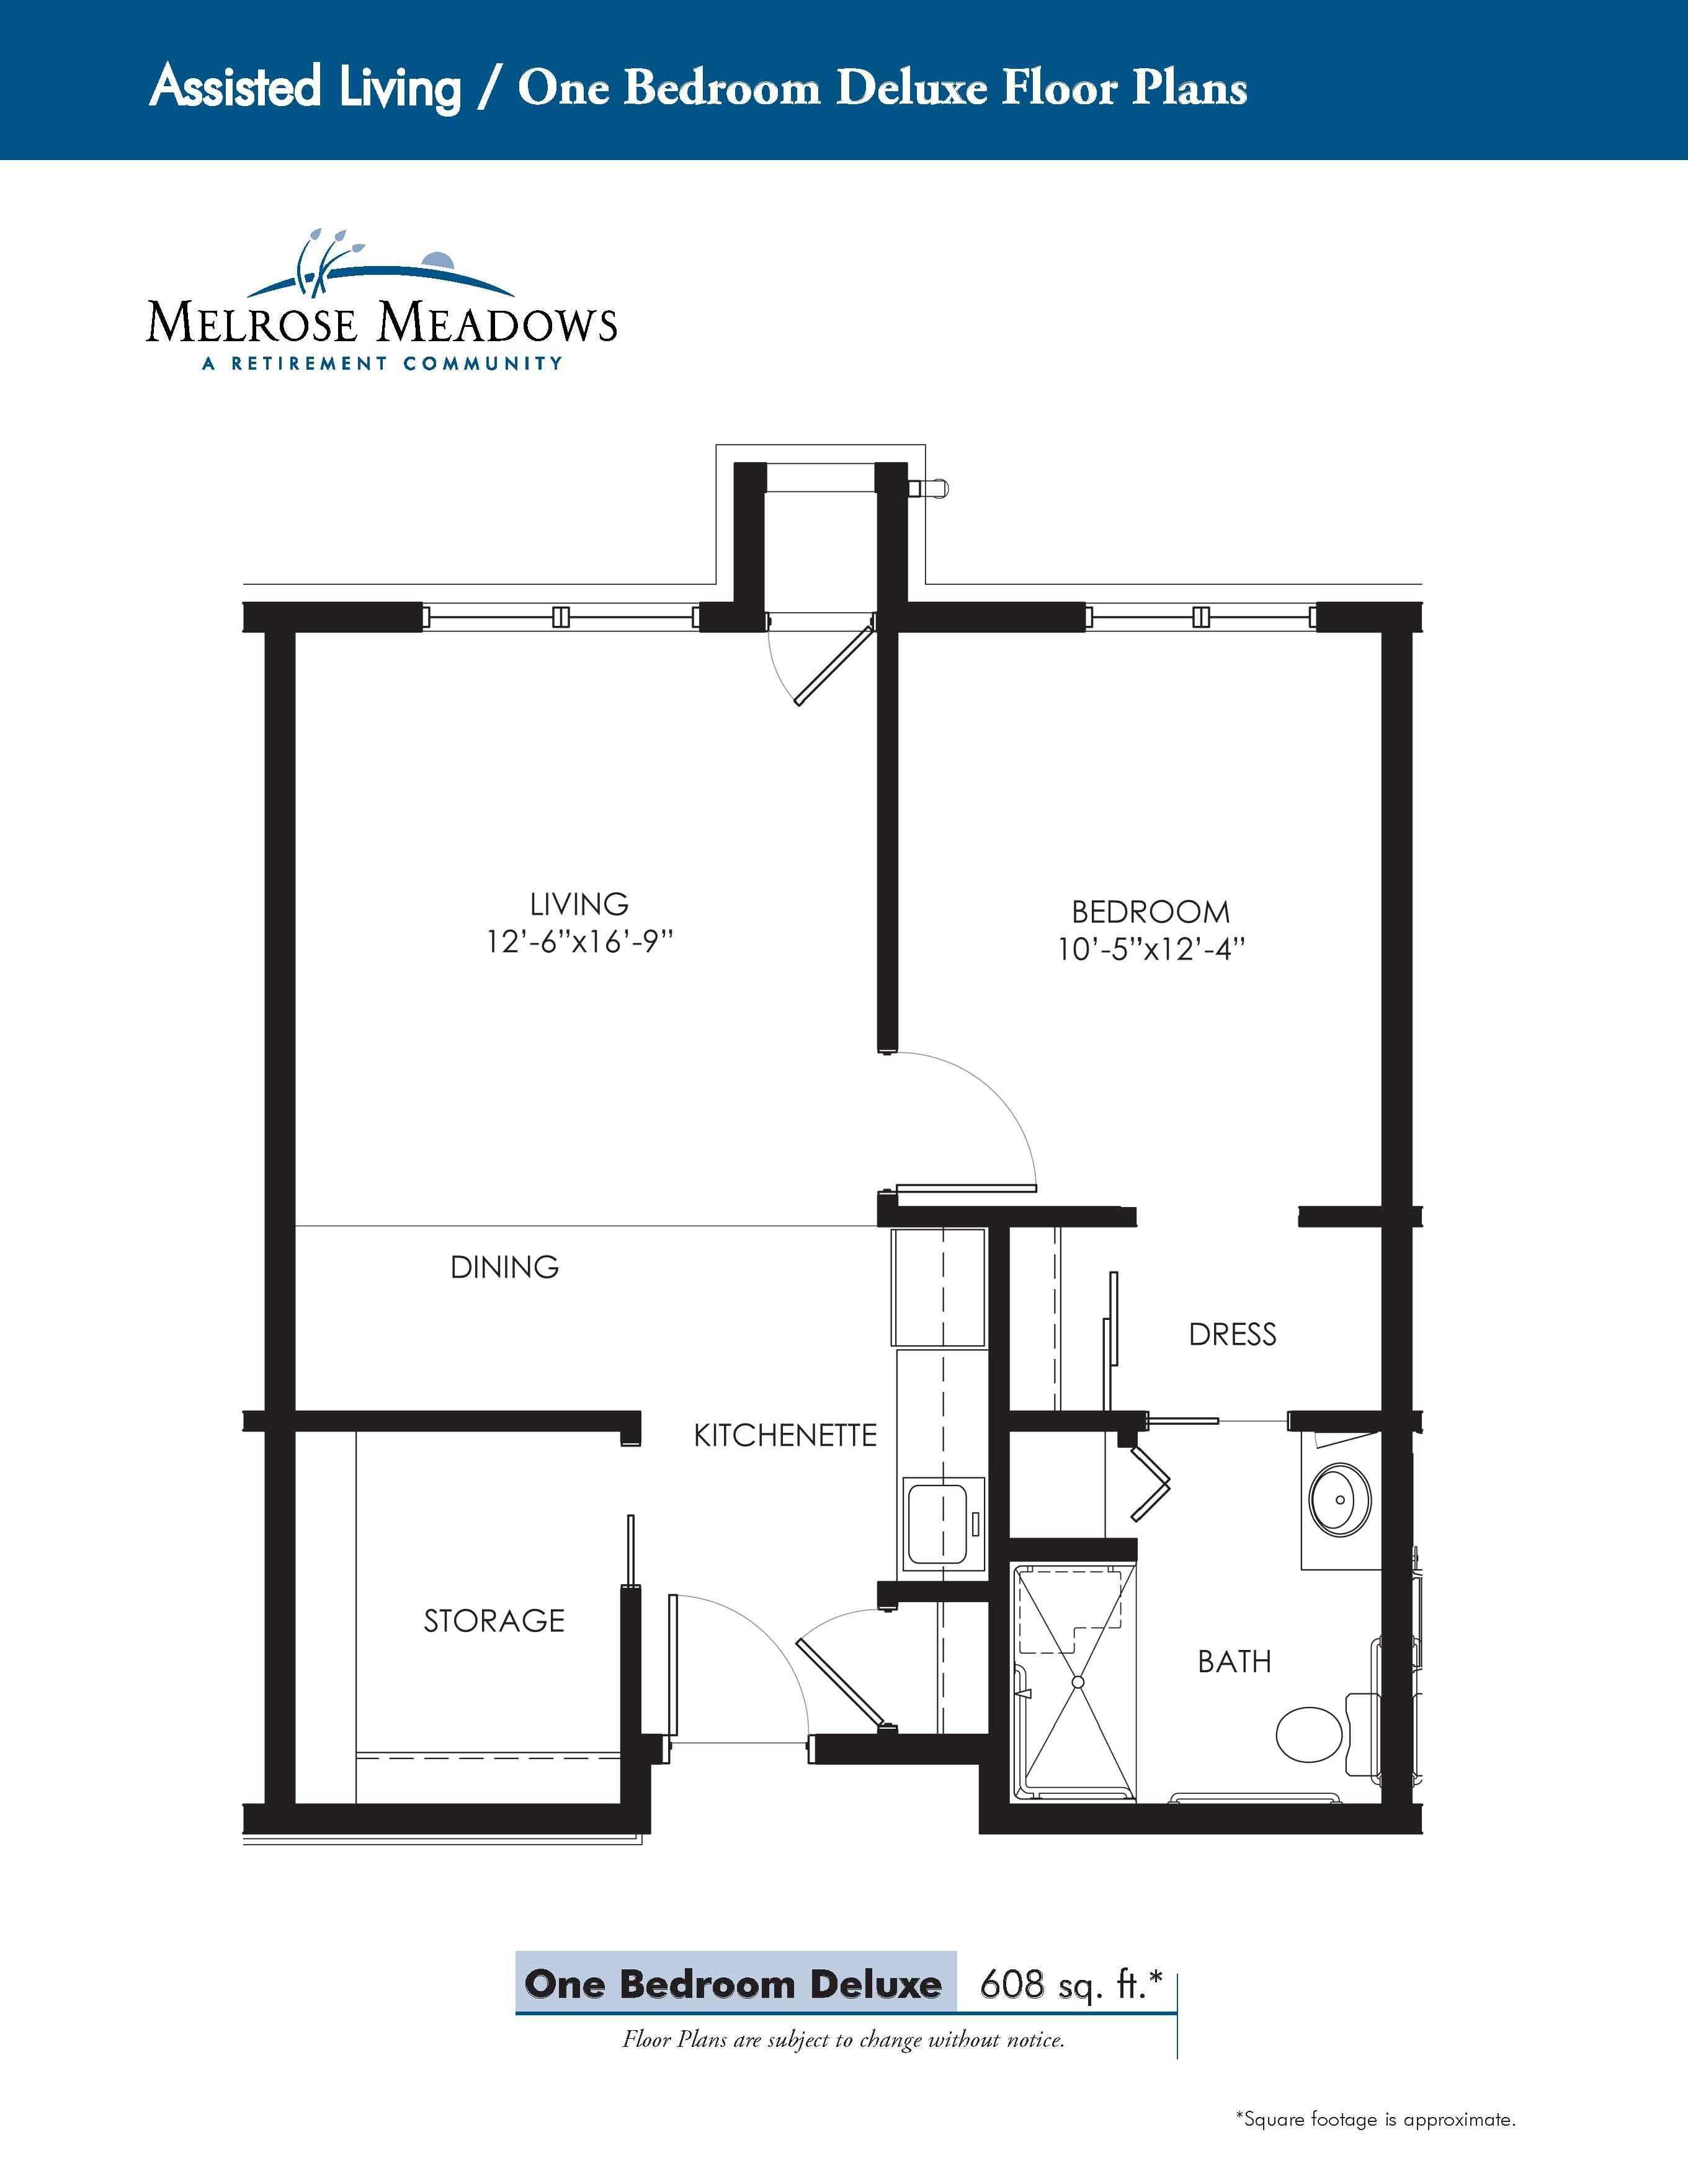door: (903, 1049, 1043, 1198), (661, 1588, 801, 1737), (791, 1592, 878, 1728), (729, 636, 862, 714), (1128, 1450, 1177, 1528)
